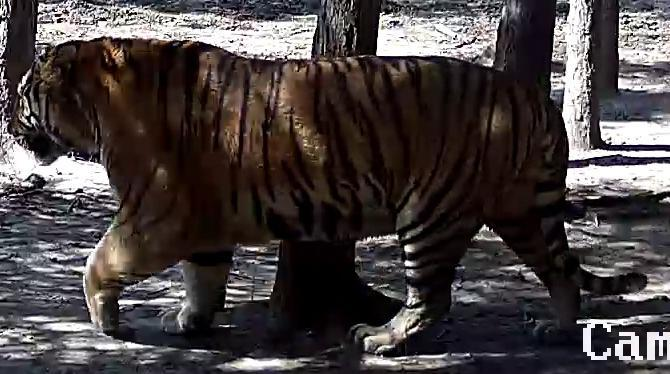tiger: (6, 1, 581, 355)
